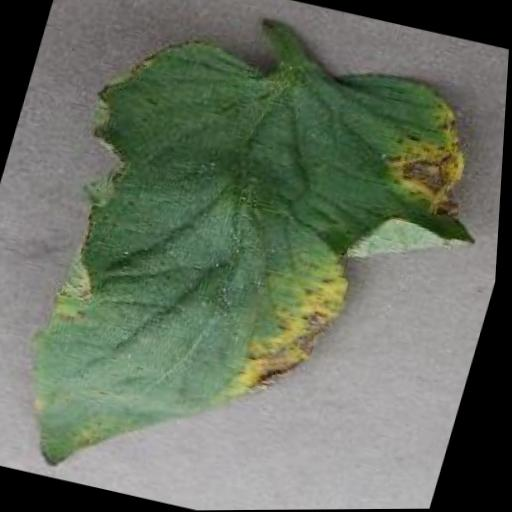Bacterial Spot: (0, 1, 512, 512)
